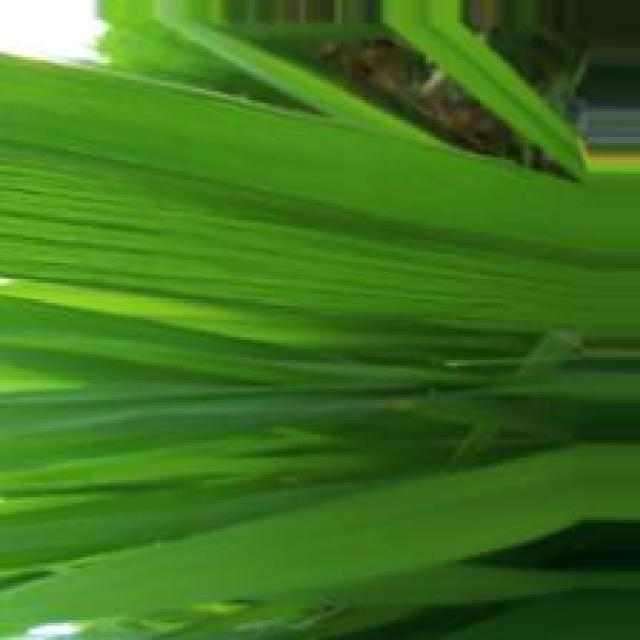HealthyLeaf: (0, 54, 634, 333), (0, 447, 630, 629), (20, 336, 445, 504)
